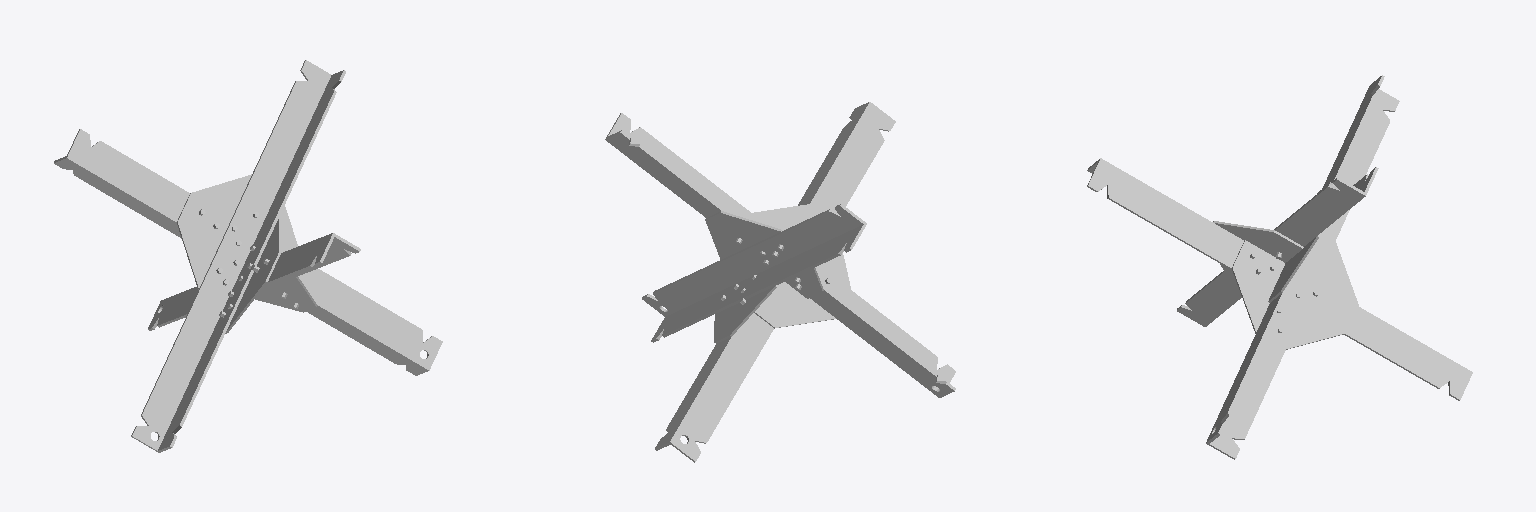
File: jezek.obj
The picture shows the model from 3 angles: view 1: azimuth 30°, elevation 25°; view 2: azimuth 150°, elevation 25°; view 3: azimuth 270°, elevation 25°; orthographic projection.
Visible parts, largest first — view 1: Cylinder.004; view 2: Cylinder.004; view 3: Cylinder.004.
Boxes of the visible parts, x1,y1,x2,y2 form: Cylinder.004: [54, 60, 442, 452]; Cylinder.004: [605, 102, 955, 462]; Cylinder.004: [1087, 75, 1472, 459].
Bounding box in the file's own units: 0.7064 × 0.5925 × 0.757.